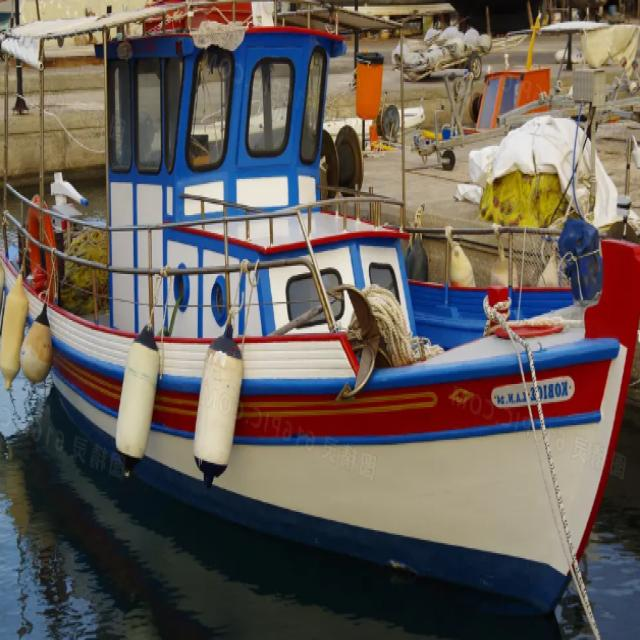fishing boat: (0, 0, 631, 578)
